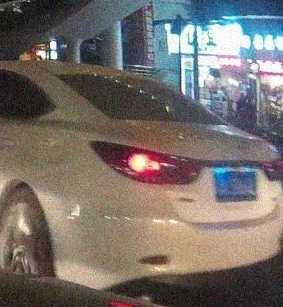L_light: (88, 140, 200, 185)
R_light: (261, 158, 282, 182)
T_light: (114, 77, 138, 83)
night-left: (46, 64, 283, 290)
